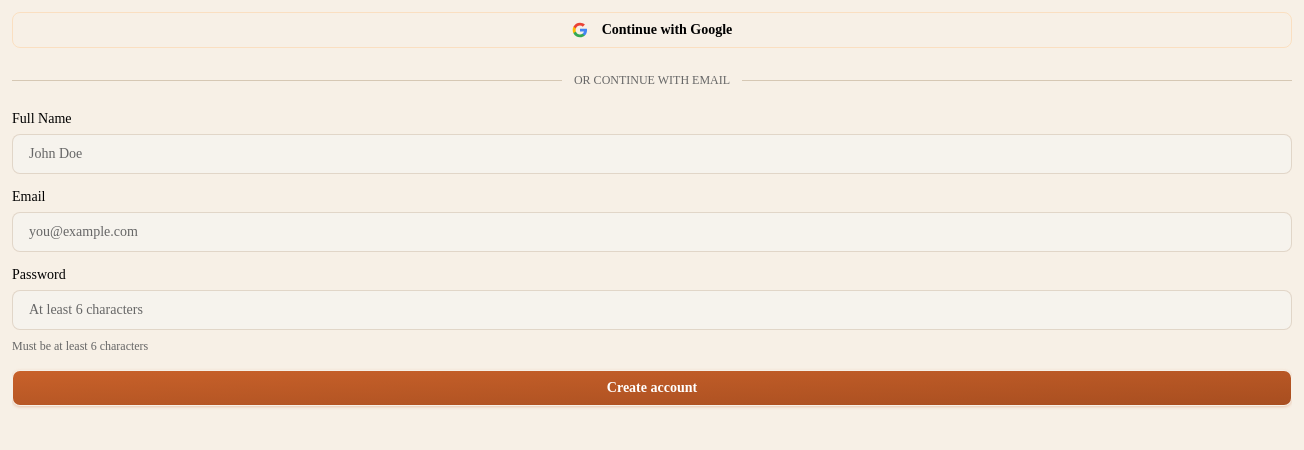
Scenario: SignupForm › shows error when name is too short
Type "A" into the field labelled "Full Name" at [652, 154], box top-left (12, 134), bottom-right (1292, 174)
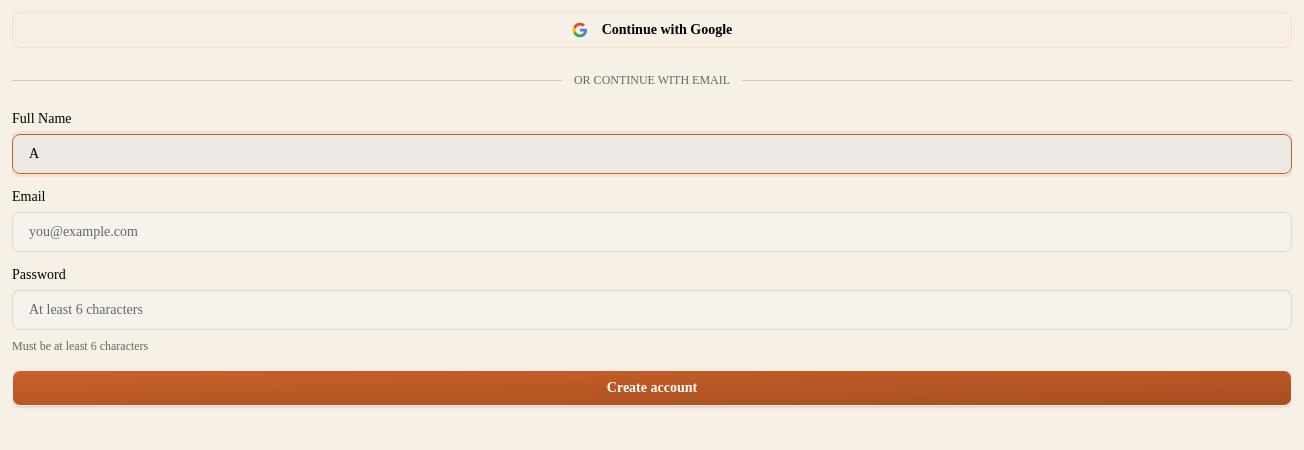
Type "test@example.com" into the field labelled "Email" at [652, 232], box top-left (12, 212), bottom-right (1292, 252)
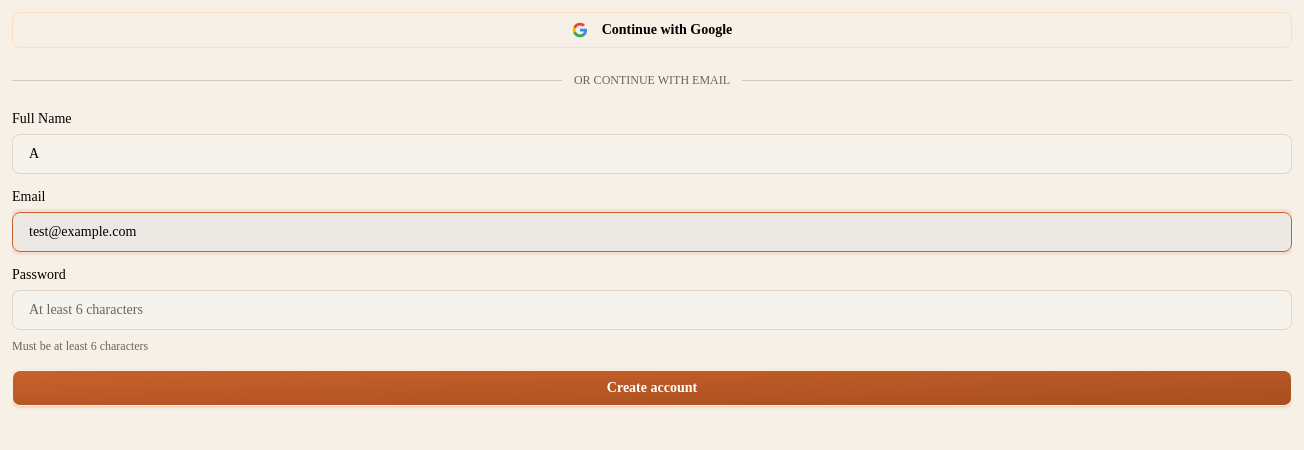
Type "password123" into the password field labelled "Password" at [652, 310], box top-left (12, 290), bottom-right (1292, 330)
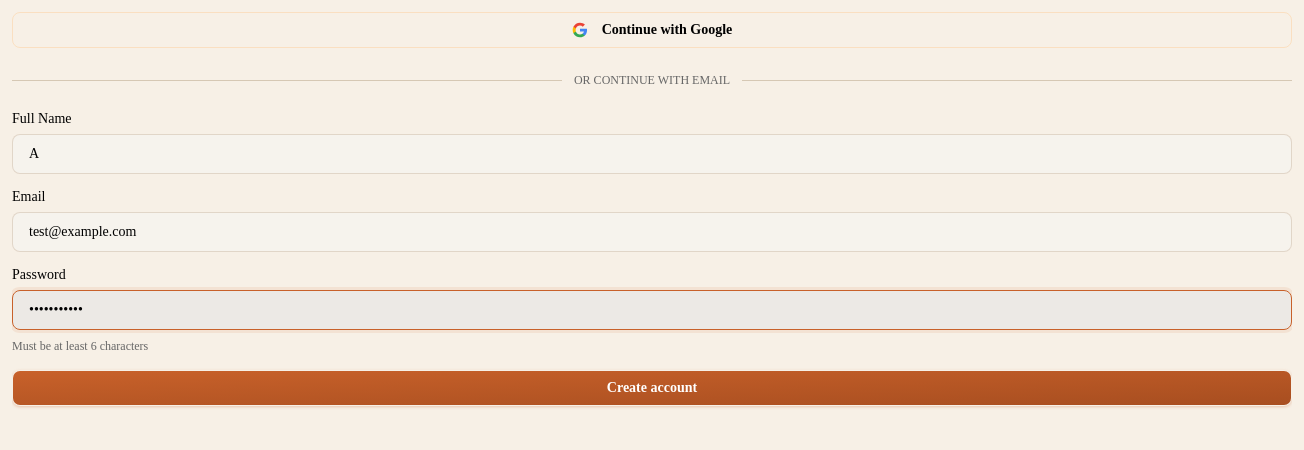
Click the button "Create account" at [652, 388], box top-left (12, 370), bottom-right (1292, 406)
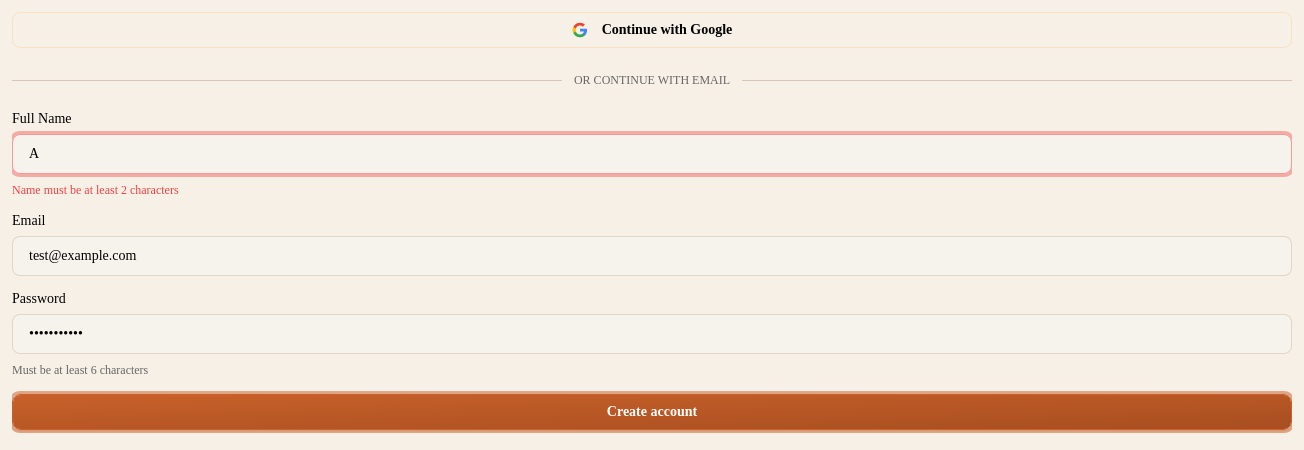
Expected: the text "Name must be at least 2 characters" is shown, top-left (12, 183), bottom-right (179, 197)
